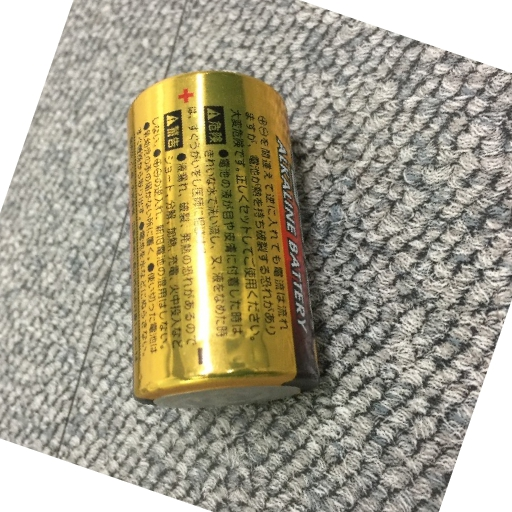Battery_0: (106, 56, 347, 435)
